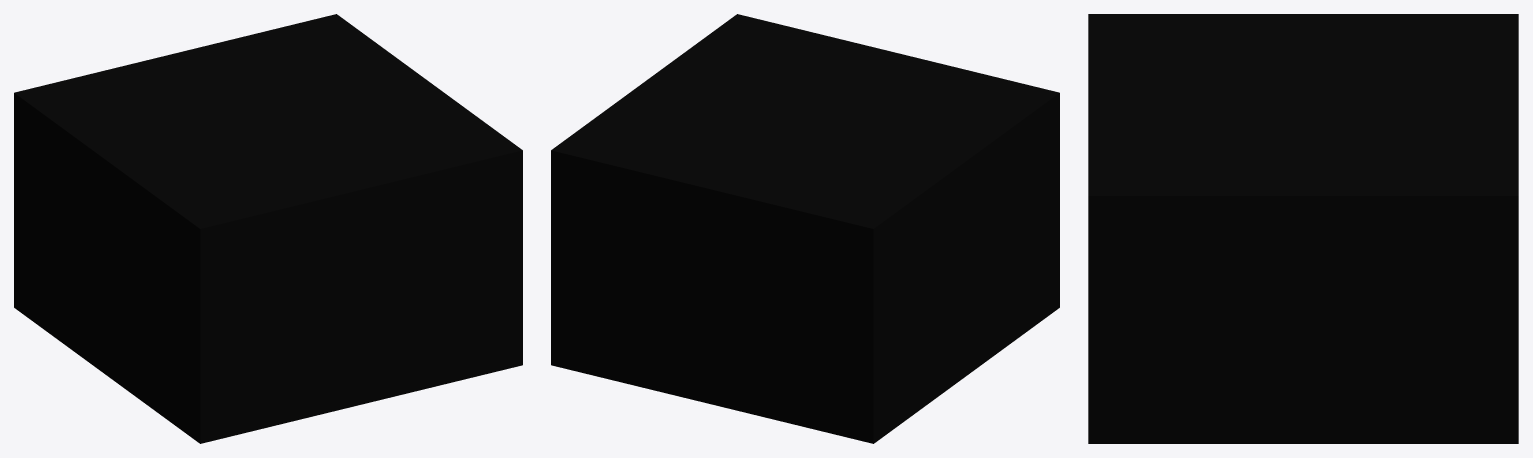
The model's file is parcel.glb.
3 views of the same model, side by side, from view 1: azimuth 30°, elevation 25°; view 2: azimuth 150°, elevation 25°; view 3: azimuth 270°, elevation 25° (orthographic). The views are drawn at different scales.
Bounding box in the file's own units: 0.44 × 0.28 × 0.44.
Materials: 1 (1 with a texture image).
